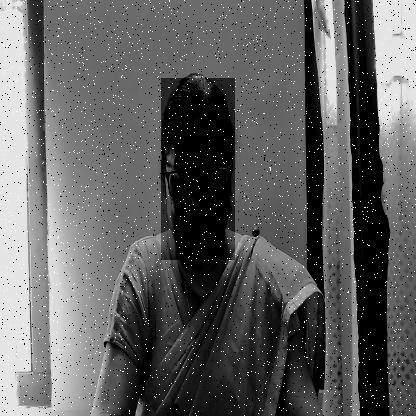Normal: (161, 78, 235, 260)
